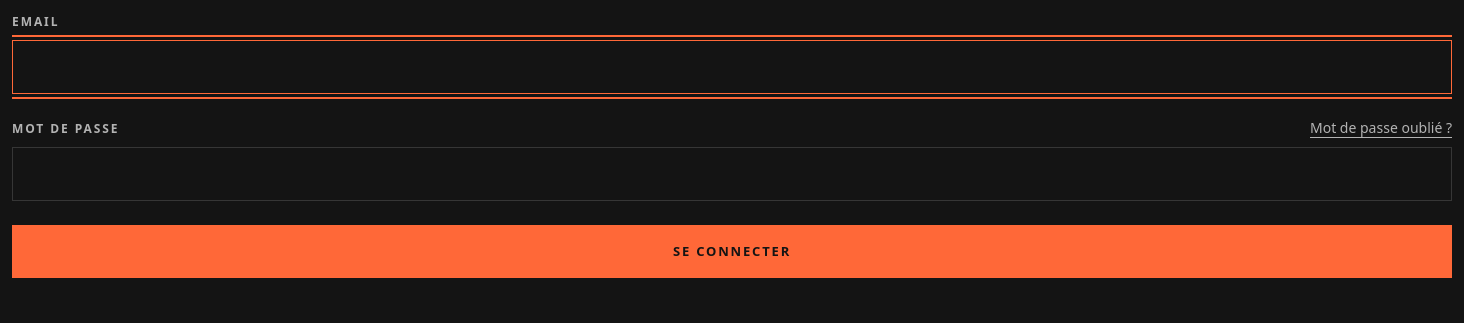
Test case: FormulaireConnexion › affiche l’erreur : bordure rouge, message sous le champ, toast en haut
Click the button "Se connecter": coordinates (732, 251) x1=12 y1=225 x2=1452 y2=278
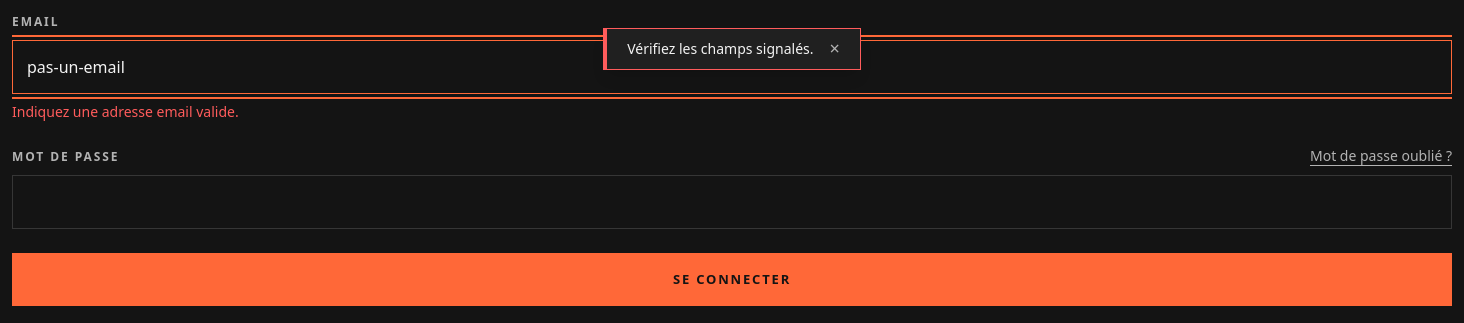
Check: the field labelled "Email" holds "pas-un-email", box x1=12 y1=40 x2=1452 y2=94
